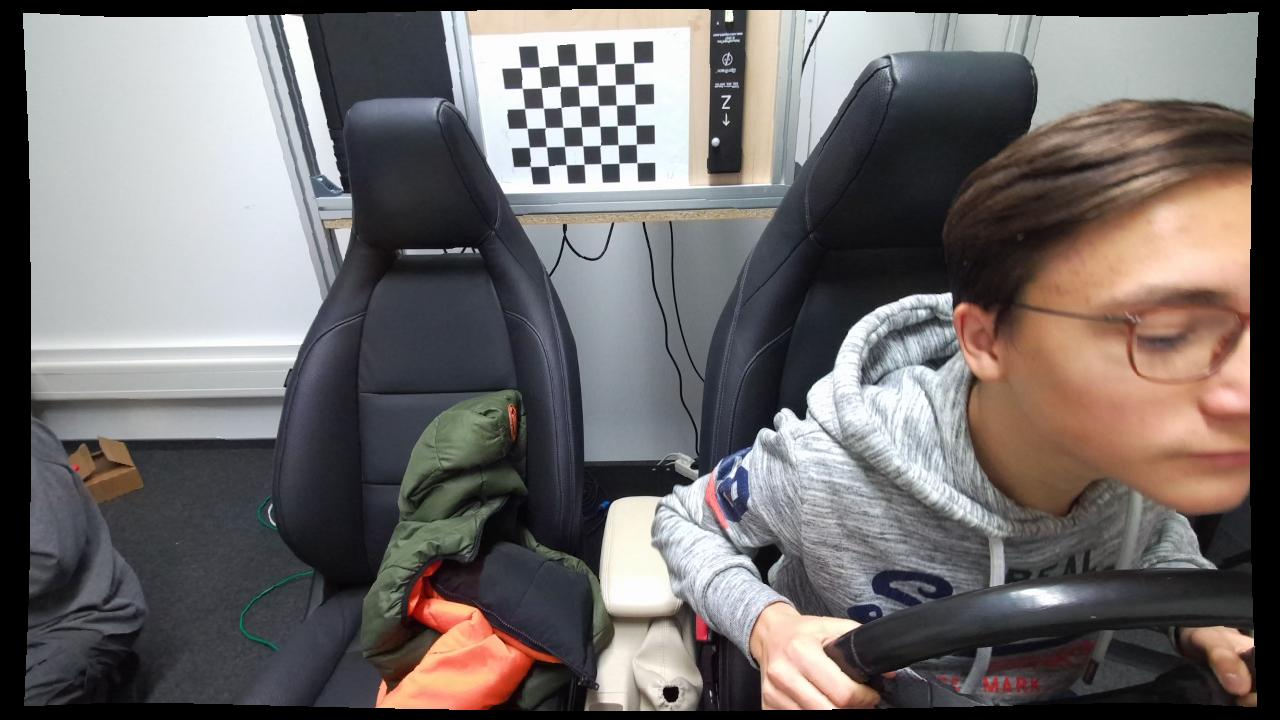Distracted: (645, 100, 1253, 712)
